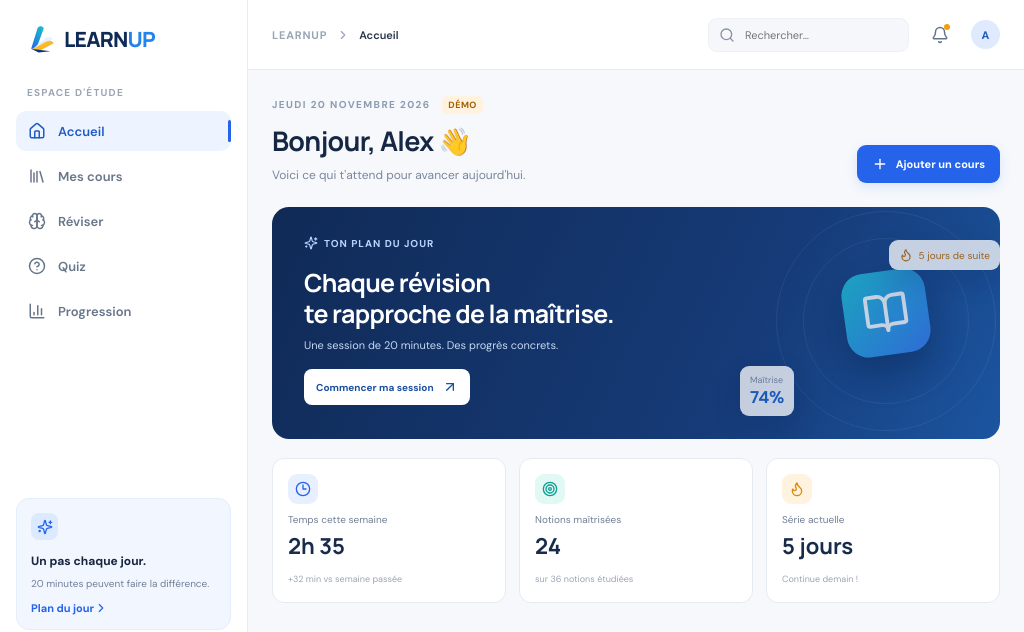
Scenario: LEARNUP study behavior › starts recommended study plan and navigates to quiz
This screenshot has width=1024, height=632.
Click the button "Réviser".
click(124, 221)  # box [16,201,231,241]
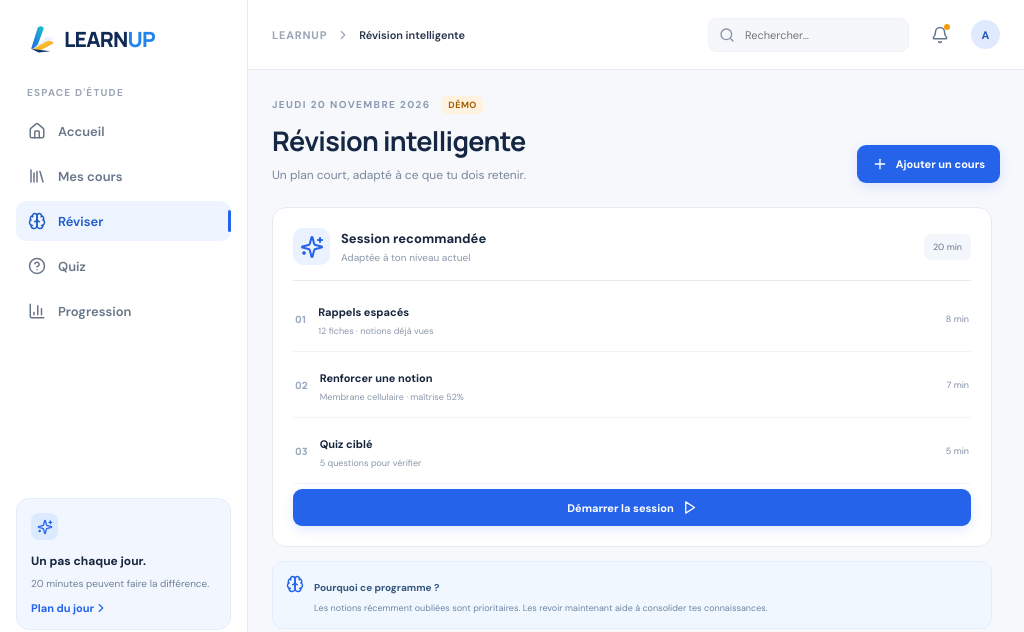
Expected: the heading "Session recommandée" is shown, [341,230,486,246]
Click the button "Démarrer la session".
click(632, 508)  # box [293,489,971,526]
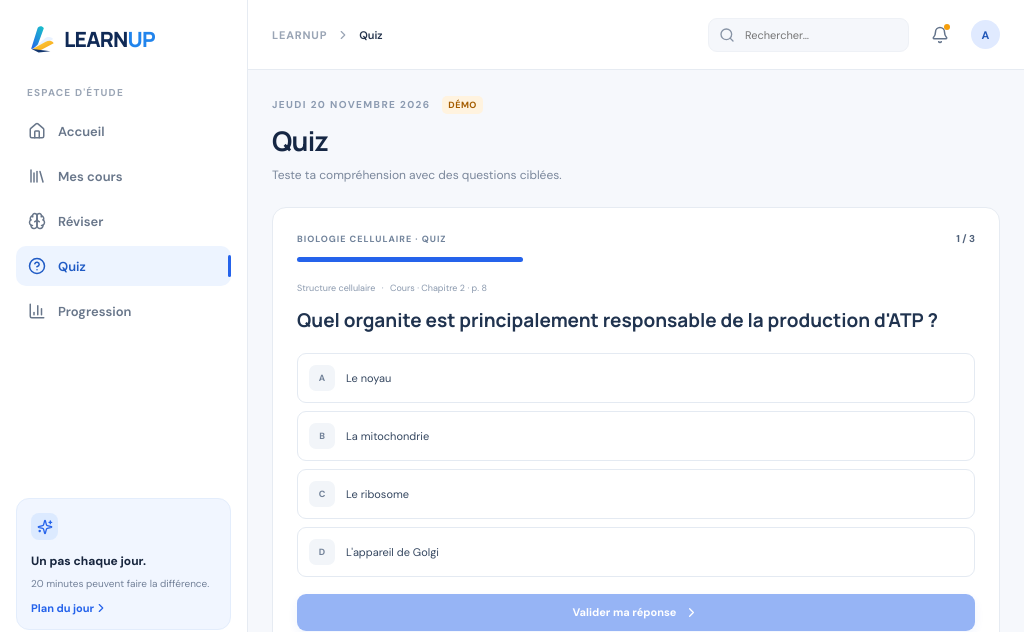
Expected: the text "BIOLOGIE CELLULAIRE · QUIZ" is shown, [297,232,446,244]
